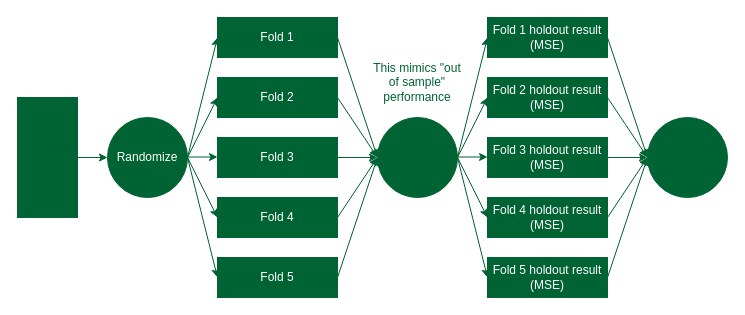
This 745x315 diagram has some shape labels left out. Here are the shapes that lost their labels. From the top down, the box of each, then its label:
(16, 96, 78, 218): Sample data
(376, 116, 458, 198): Estimate model WITHOUT each fold
(646, 116, 728, 198): Select model with best performance
